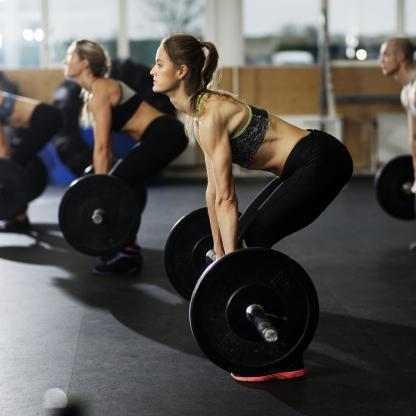barbell: (162, 206, 321, 376), (58, 163, 152, 254)
